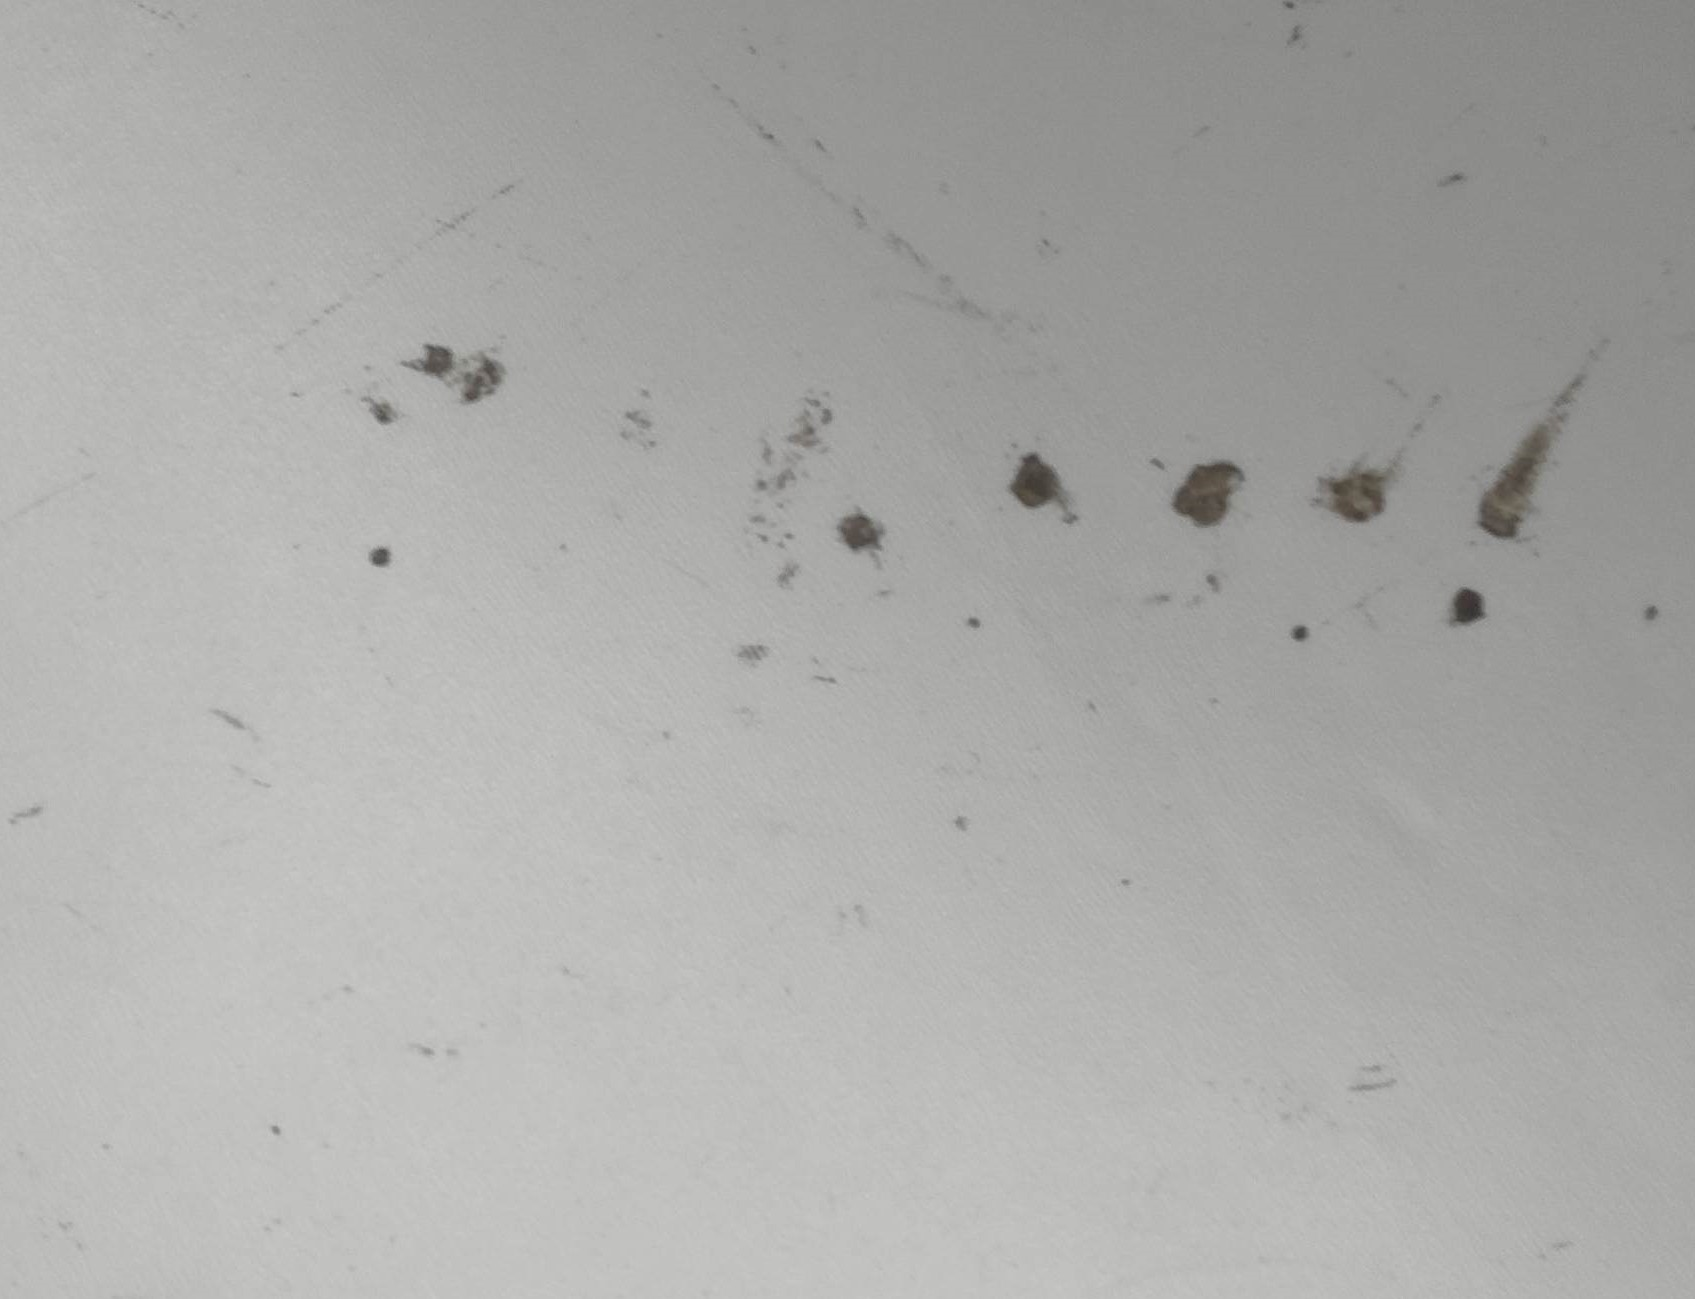grey spot: (1475, 344, 1605, 540), (1313, 412, 1426, 523), (396, 340, 505, 401), (1170, 457, 1247, 525), (1007, 452, 1077, 524), (837, 503, 884, 555), (1449, 589, 1488, 625), (356, 393, 394, 424), (368, 544, 390, 565), (1292, 625, 1310, 641), (1645, 604, 1660, 618)
